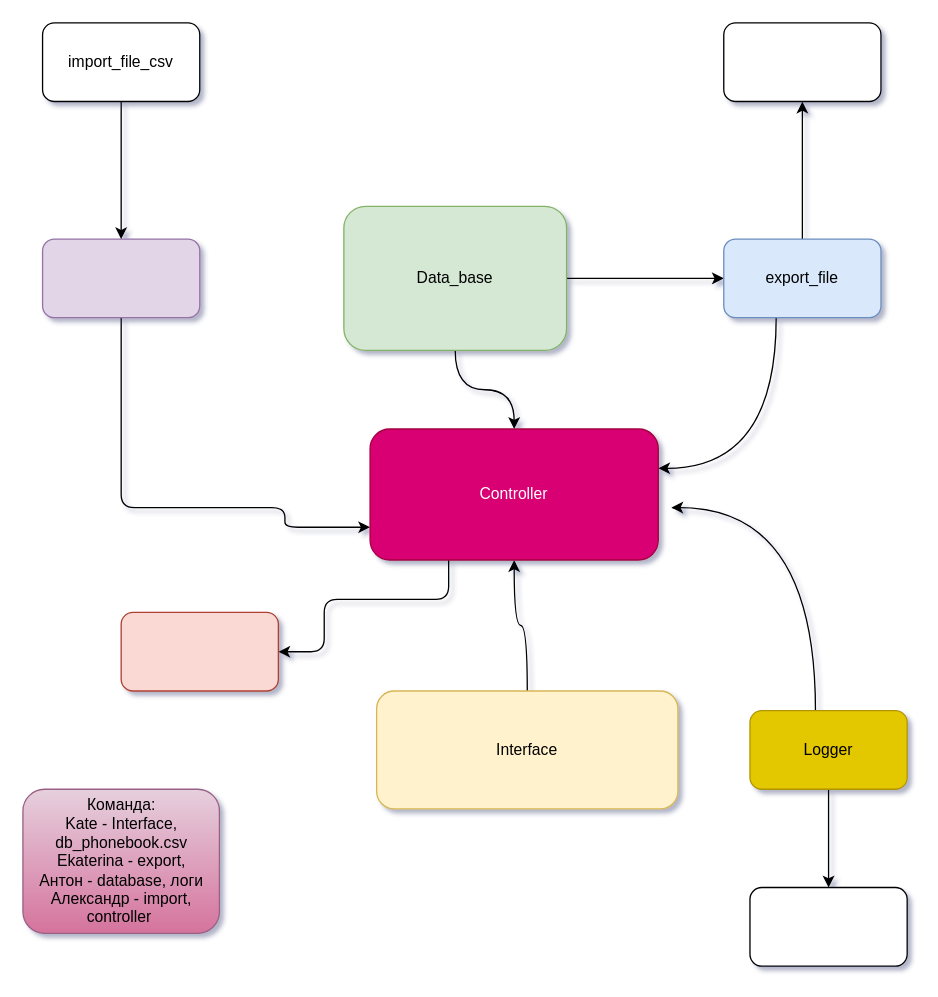
The diagram is 938 pixels wide and 997 high, and some of its shapes have lost their labels. The centre of each missing label's shape, as x and y in pixels:
"bd_csv_export" goes at [801,62].
"import_file" goes at [120,278].
"log" goes at [828,926].
"main" goes at [199,651].
